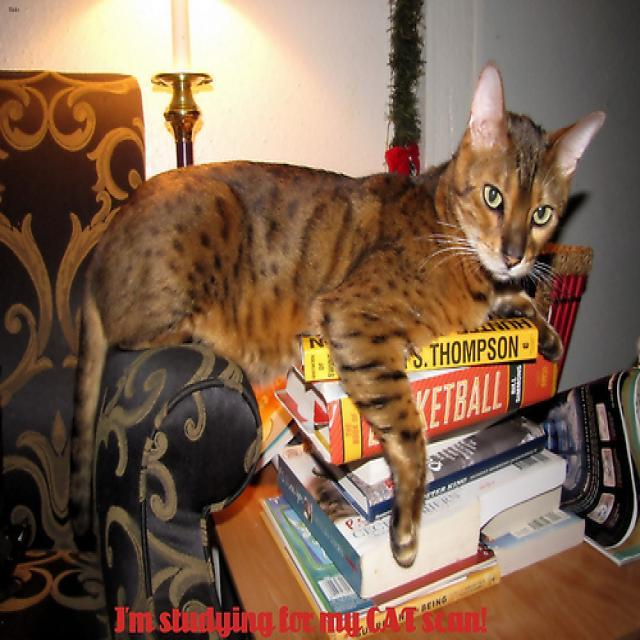Bengal: (447, 62, 604, 278)
